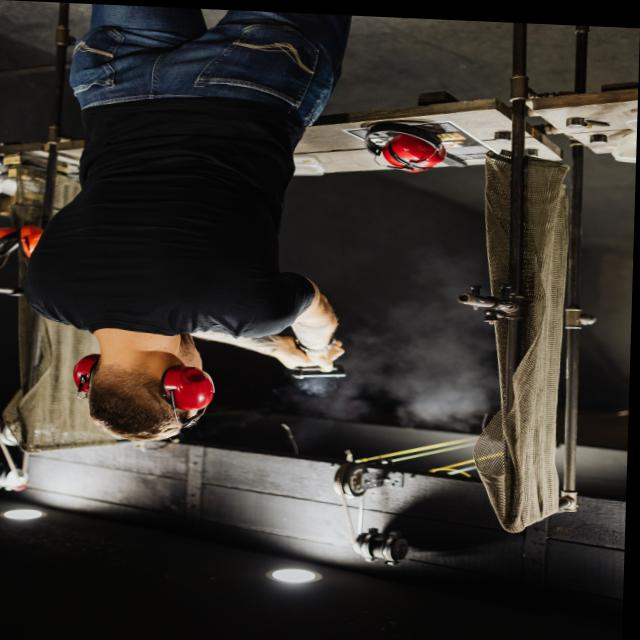handgun: (289, 355, 360, 383)
